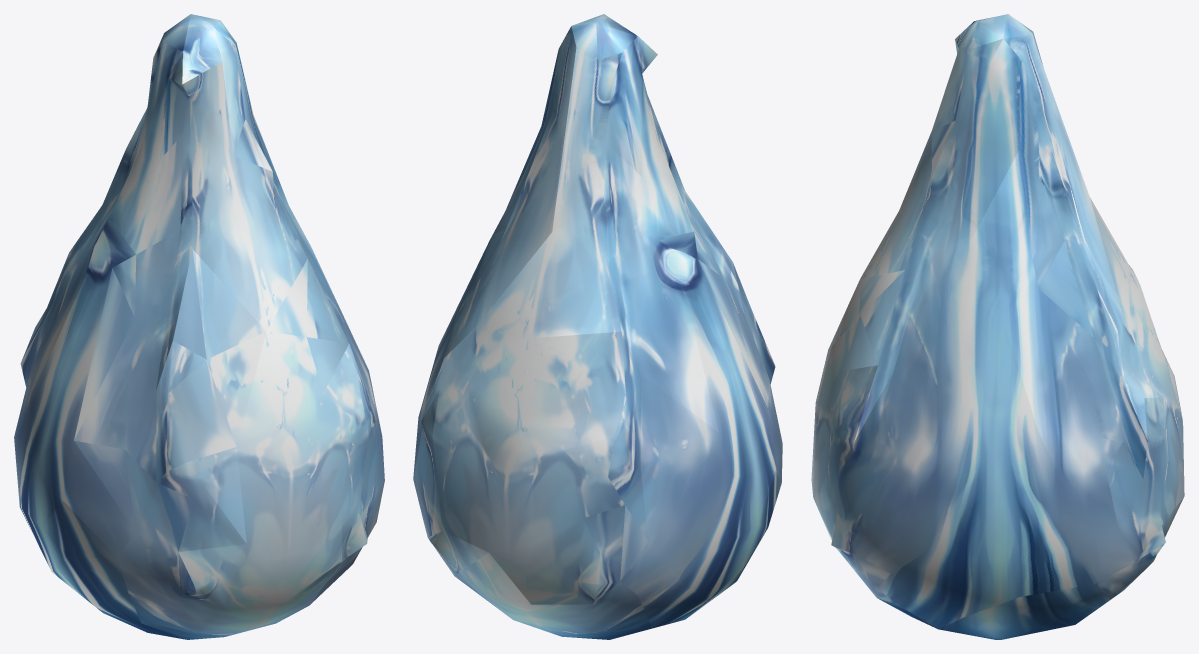
The model's file is Saliva_Top2.fbx.
The picture shows the model from 3 angles, left to right: view 1: azimuth 30°, elevation 25°; view 2: azimuth 150°, elevation 25°; view 3: azimuth 270°, elevation 25°; orthographic projection.
Parts seen in each view (by area): view 1: temp; view 2: temp; view 3: temp.
Boxes of the visible parts, bbox=[...] form: temp: bbox=[14, 14, 384, 639]; temp: bbox=[413, 14, 782, 639]; temp: bbox=[811, 14, 1184, 639].
Bounding box in the file's own units: 1.06 × 1.91 × 1.07.
1 material, 1 textured.
